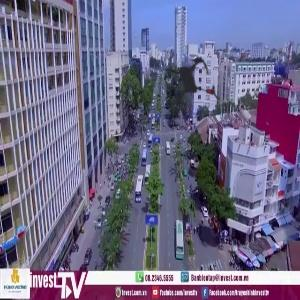drone: (128, 23, 251, 146)
